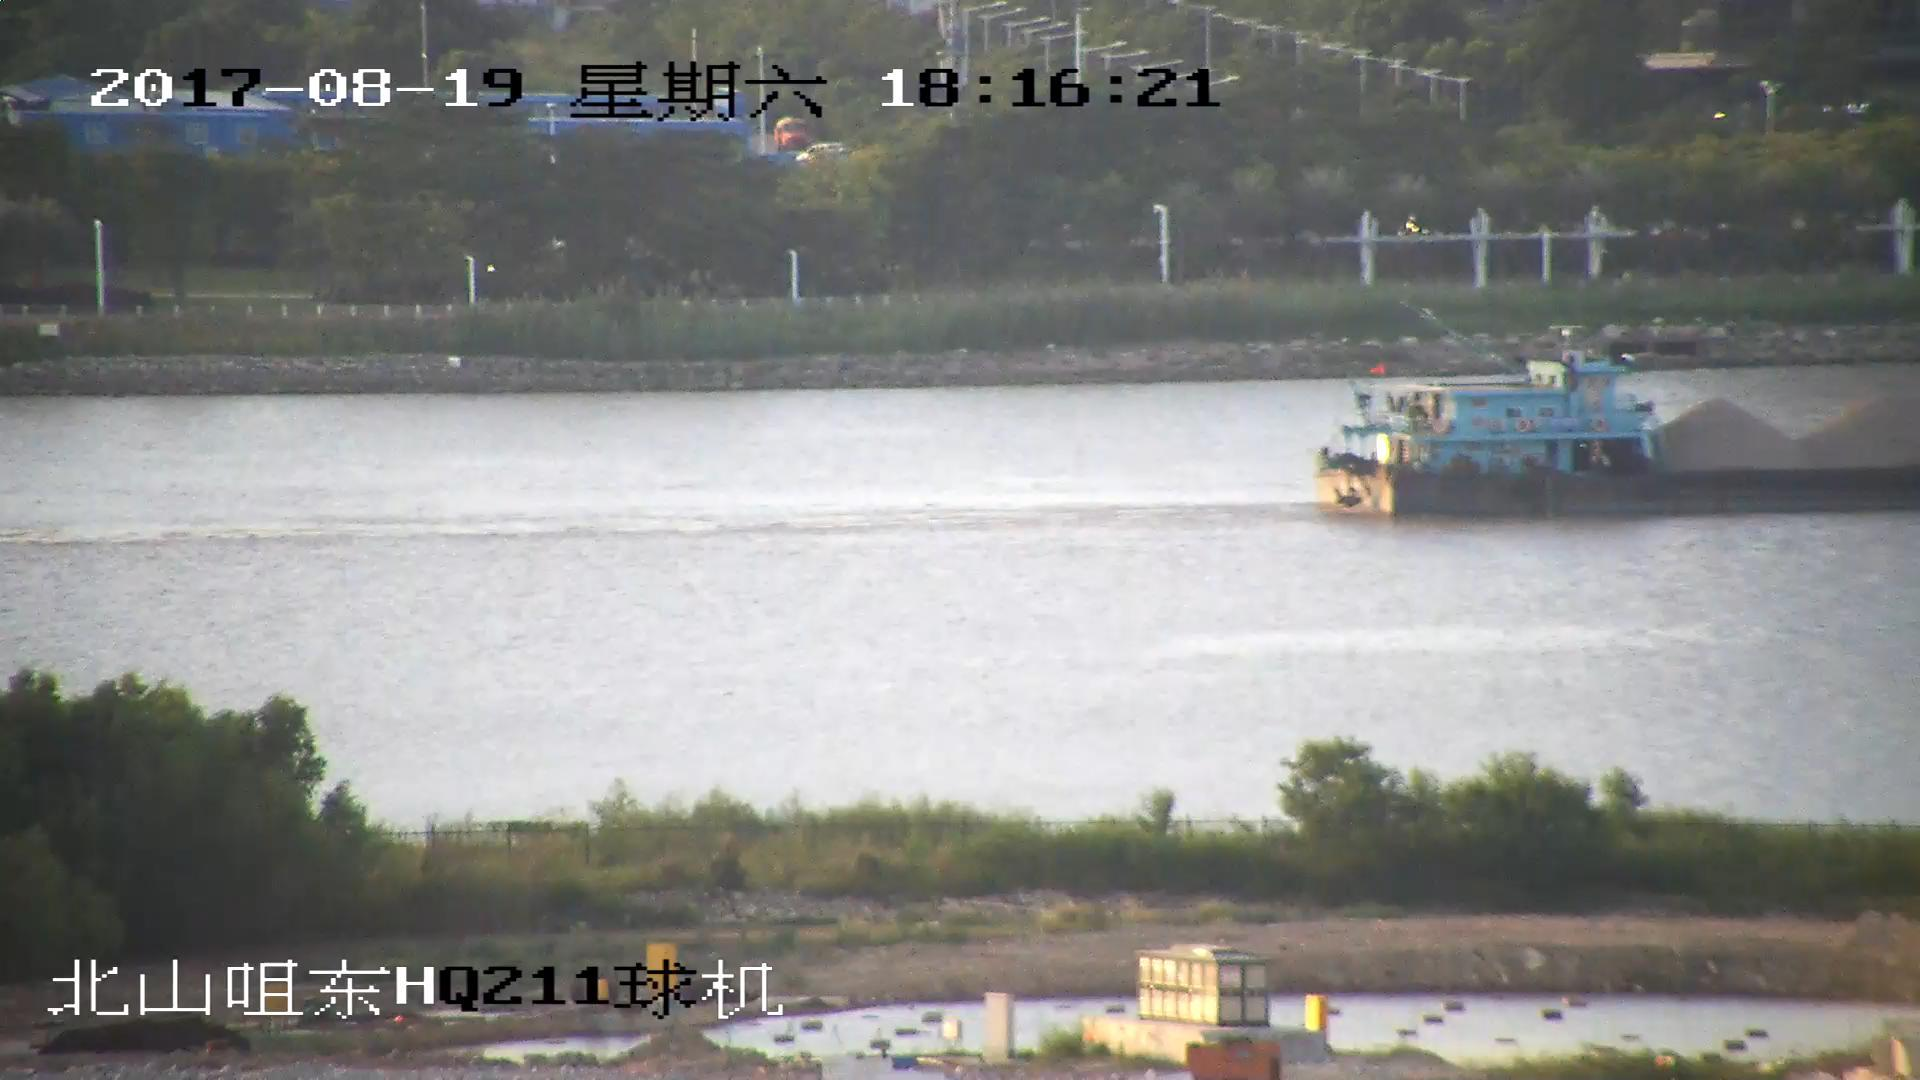Ship: (1309, 326, 1920, 520)
